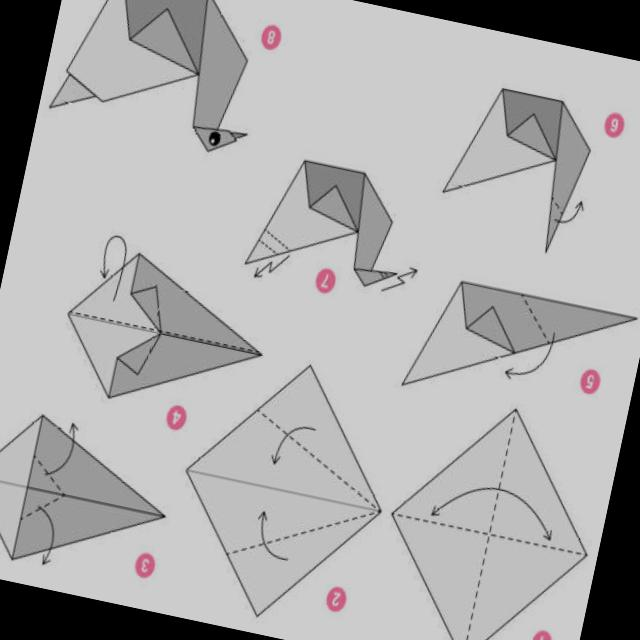arrow: (431, 485, 551, 540), (505, 332, 555, 377), (100, 234, 126, 300), (44, 422, 76, 474), (271, 426, 314, 463), (258, 510, 286, 560), (36, 506, 53, 564), (381, 266, 416, 290), (253, 254, 288, 277), (556, 201, 583, 222)
fold-line: (250, 401, 379, 516), (457, 405, 519, 640), (387, 506, 591, 562), (61, 305, 264, 361), (180, 463, 383, 517), (219, 505, 379, 557), (514, 287, 553, 346), (28, 445, 64, 497), (14, 489, 64, 526), (258, 219, 293, 251), (252, 234, 277, 258), (546, 186, 565, 217)
